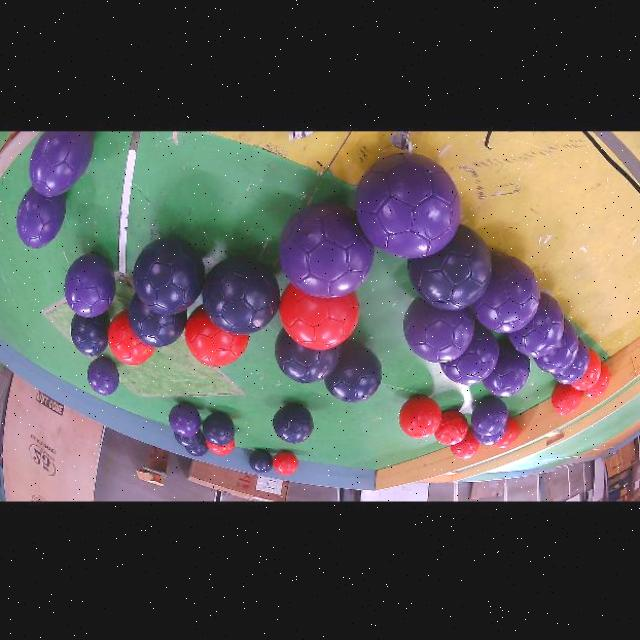B: (408, 226, 492, 311), (202, 257, 280, 335), (133, 239, 205, 316), (325, 343, 383, 403), (128, 296, 187, 348), (71, 313, 110, 357), (273, 405, 313, 445), (202, 414, 235, 447), (249, 450, 273, 474), (174, 430, 201, 448), (186, 436, 209, 457)
P: (357, 153, 461, 259), (280, 203, 375, 298), (473, 257, 541, 334), (403, 298, 474, 363), (29, 132, 94, 198), (274, 329, 341, 384), (440, 326, 500, 387), (509, 293, 565, 358), (64, 254, 116, 318), (16, 189, 66, 249), (483, 343, 530, 398), (534, 322, 579, 374), (554, 340, 590, 385), (471, 398, 507, 437), (88, 358, 119, 396), (169, 403, 201, 438), (474, 426, 506, 446)
R: (280, 286, 359, 351), (184, 306, 249, 367), (109, 311, 155, 366), (399, 397, 442, 439), (572, 350, 601, 392), (435, 411, 469, 446), (551, 384, 582, 416), (583, 363, 610, 399), (451, 430, 480, 460), (494, 417, 520, 450), (273, 452, 299, 477), (206, 439, 235, 456)
